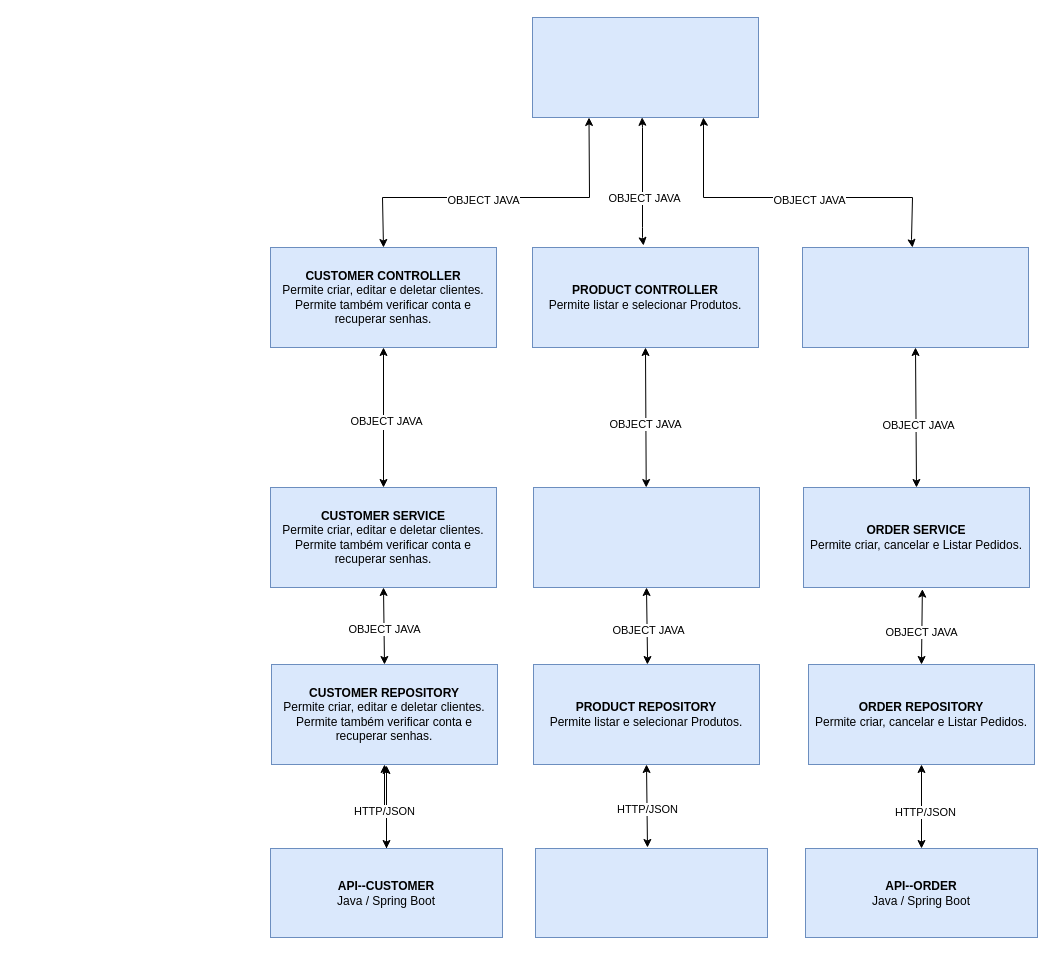
Image size: 1055x955. Some labels were removed from this diagram. The centre of each missing label's shape, as x and y in pixels:
API--PRODUCT Java / Spring Boot: point (651, 893)
BFF Java / Spring Boot: point (645, 67)
ORDER CONTROLLER Permite criar, cancelar e Listar Pedidos.: point (915, 297)
PRODUCT SERVICE Permite listar e selecionar Produtos.: point (646, 537)
